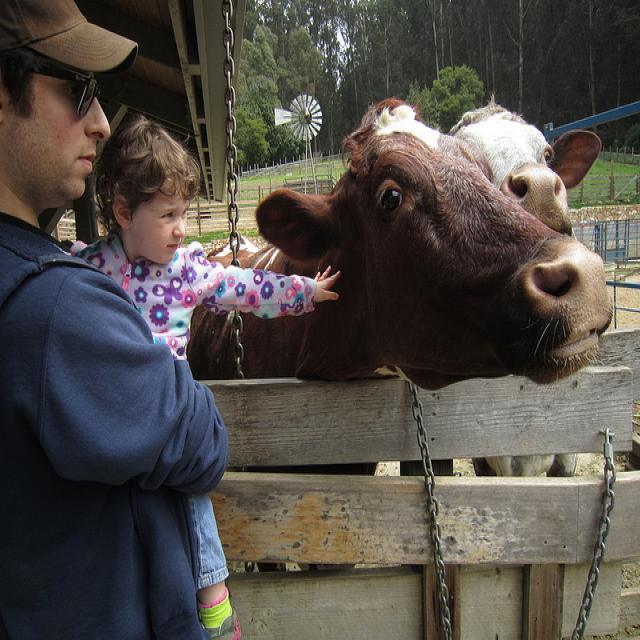cow: (186, 95, 609, 388), (446, 91, 602, 479)
